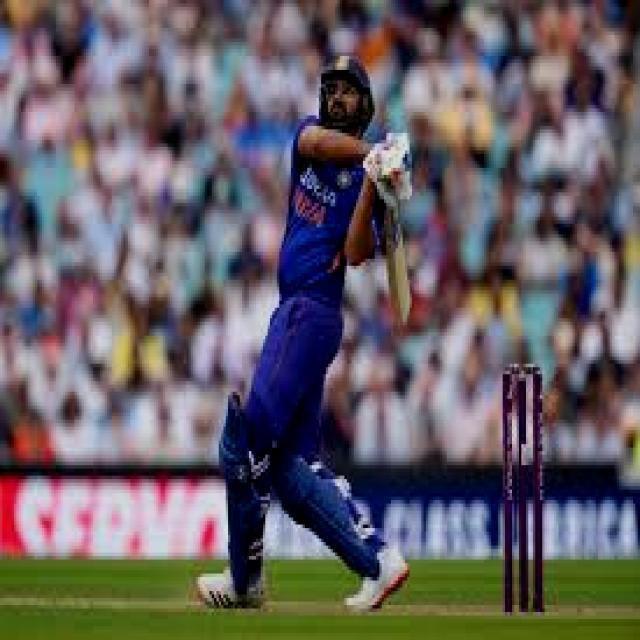toe: (392, 276, 416, 330)
